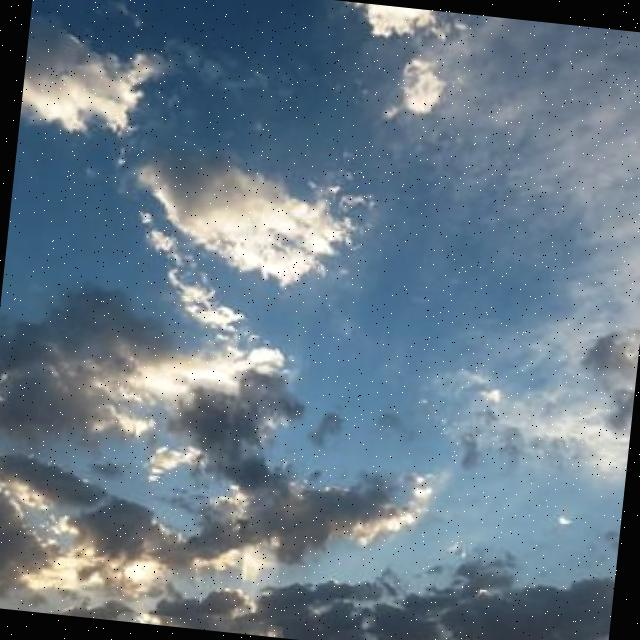Ns: (1, 4, 640, 640)
